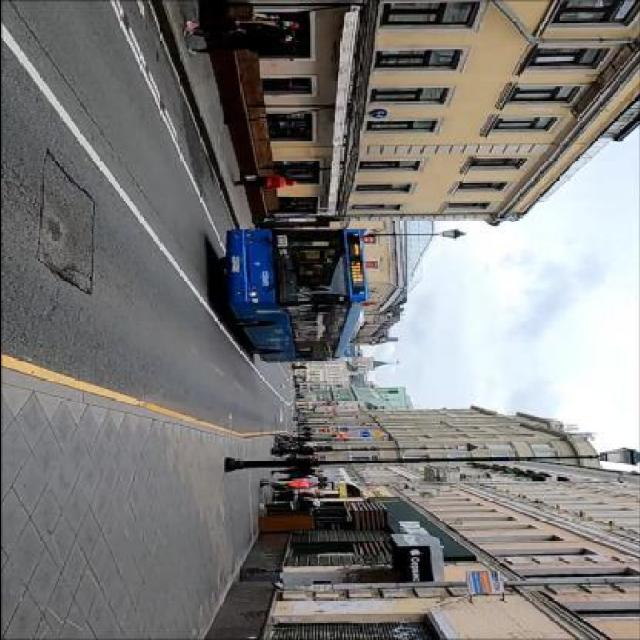bus: (216, 228, 370, 362)
